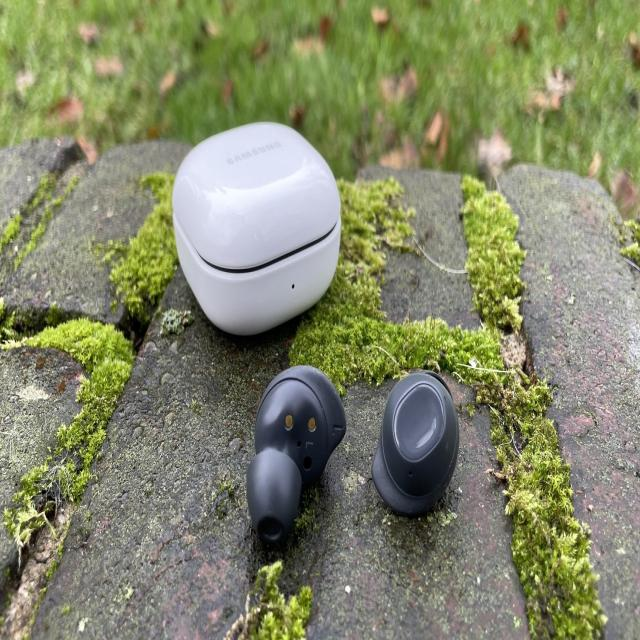headphones: (160, 89, 358, 346)
